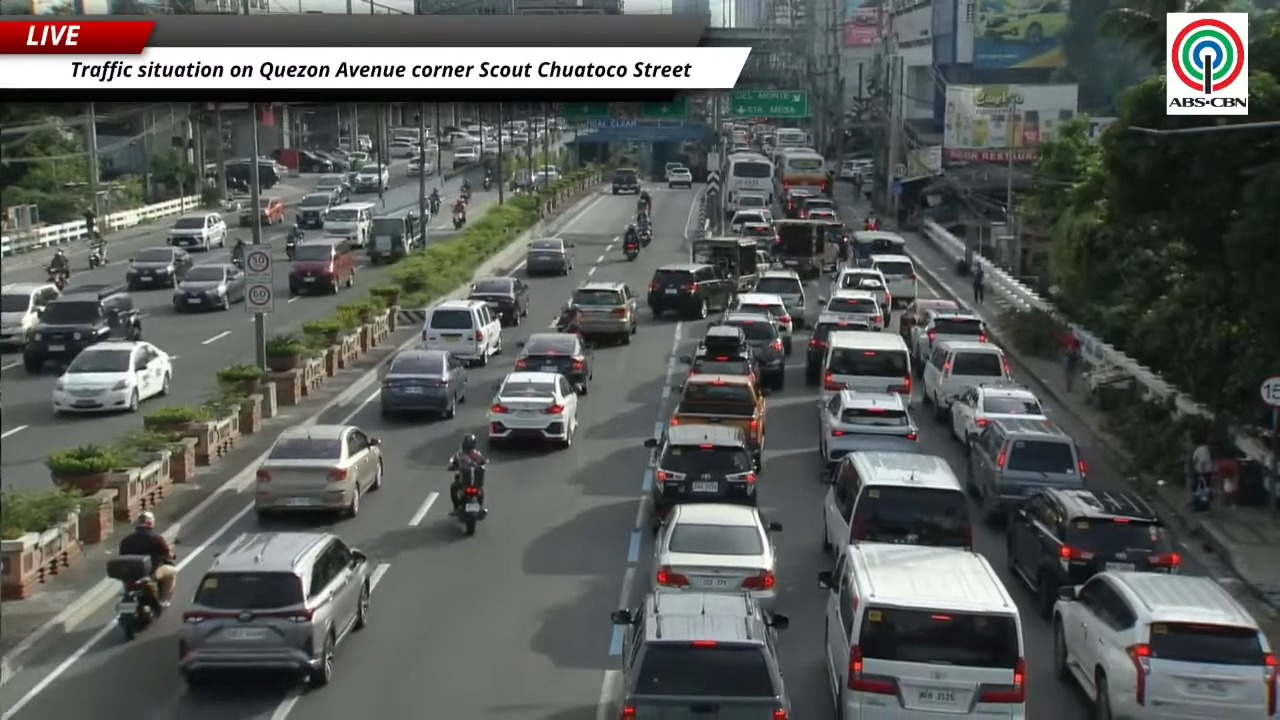bus: (723, 152, 774, 206), (774, 150, 829, 196)
car: (1052, 571, 1279, 719), (178, 532, 372, 687), (610, 590, 790, 719), (1006, 488, 1180, 617), (823, 450, 972, 552), (654, 503, 781, 610), (965, 418, 1086, 523), (254, 425, 383, 517), (644, 424, 757, 529), (23, 285, 141, 373), (52, 341, 172, 414), (819, 390, 917, 466), (922, 340, 1012, 420), (487, 371, 577, 448), (950, 382, 1047, 447), (379, 348, 467, 418), (421, 299, 501, 365), (719, 312, 784, 390), (647, 263, 735, 318), (515, 332, 592, 394), (805, 314, 870, 385), (909, 311, 987, 368), (570, 281, 637, 344), (679, 326, 757, 379), (729, 292, 793, 355), (288, 237, 356, 295), (983, 0, 1069, 45), (0, 282, 59, 347), (172, 263, 246, 311), (832, 267, 892, 323), (752, 270, 805, 327), (468, 276, 528, 325), (899, 298, 960, 346), (126, 247, 193, 290), (820, 289, 884, 330), (168, 212, 228, 252), (869, 254, 917, 303), (525, 238, 573, 275), (295, 189, 336, 228), (738, 223, 777, 251), (782, 186, 817, 217), (728, 209, 773, 233), (314, 175, 351, 204), (354, 163, 389, 192), (726, 192, 768, 215), (297, 150, 337, 173), (800, 195, 835, 218), (838, 159, 872, 182), (611, 168, 640, 194), (258, 198, 284, 225), (452, 145, 478, 169), (388, 140, 418, 158), (667, 167, 692, 188), (805, 208, 838, 221), (406, 155, 423, 176), (664, 161, 683, 179)
motorcycle: (108, 557, 162, 640), (455, 468, 486, 535), (285, 226, 304, 259), (47, 268, 69, 291), (87, 245, 106, 269), (623, 241, 640, 261), (285, 237, 297, 260), (637, 227, 651, 246), (230, 254, 245, 271), (452, 212, 465, 229), (429, 197, 440, 216), (461, 187, 471, 202), (636, 211, 648, 223), (483, 176, 492, 191)
